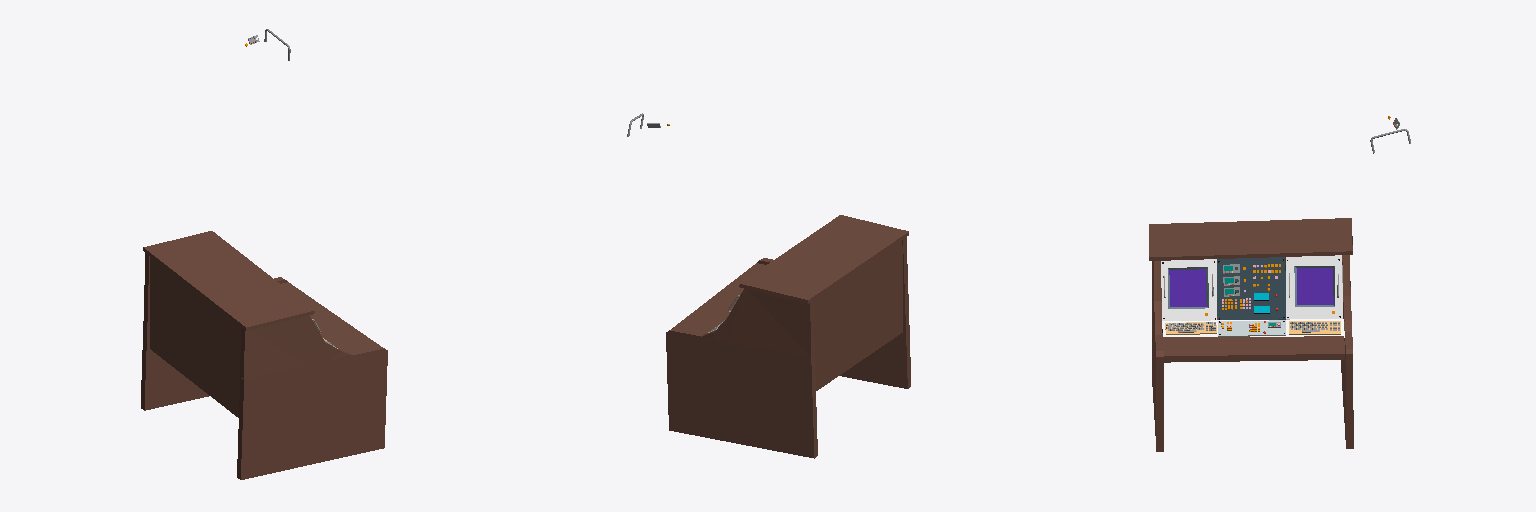
3 views of the same model, side by side, from view 1: azimuth 30°, elevation 25°; view 2: azimuth 150°, elevation 25°; view 3: azimuth 270°, elevation 25° (orthographic).
Visible parts, largest first — view 1: group[number redacted]; view 2: group[number redacted]; view 3: group[number redacted].
Boxes of the visible parts, x1=… form: group[number redacted]: x1=141, y1=231, x2=387, y2=479; group[number redacted]: x1=666, y1=215, x2=910, y2=458; group[number redacted]: x1=1149, y1=218, x2=1353, y2=451.
Bounding box in the file's own units: 3.26 × 6.29 × 4.58.